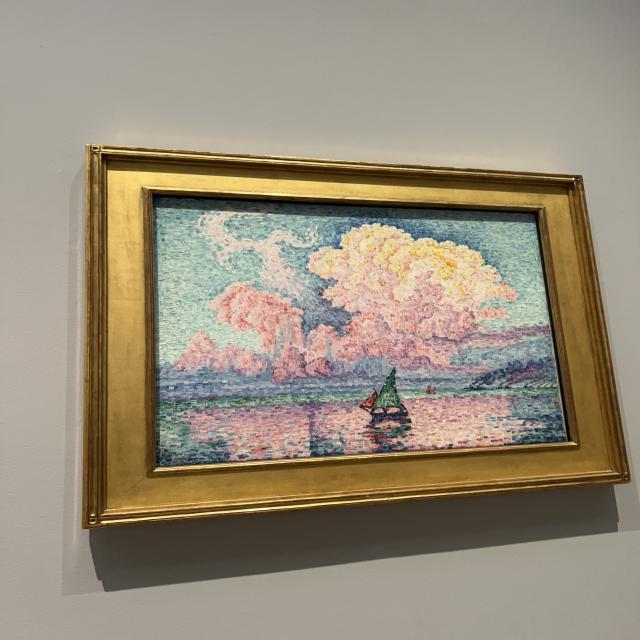sunrise: (161, 200, 565, 463)
